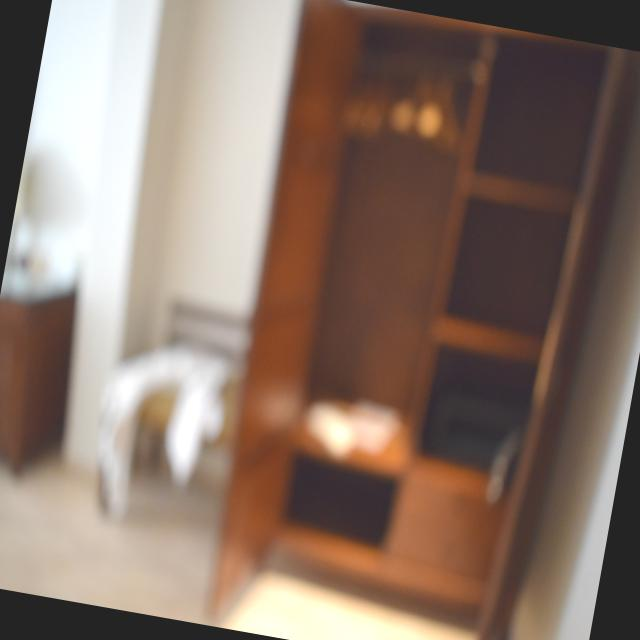mess: (98, 295, 252, 461), (270, 364, 439, 505)
